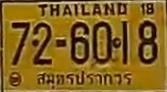0: (92, 20, 111, 62)
1: (121, 19, 127, 64)
2: (31, 21, 51, 64)
6: (70, 21, 88, 63)
7: (11, 21, 29, 64)
8: (138, 19, 156, 63)
SPK: (35, 67, 133, 89)
